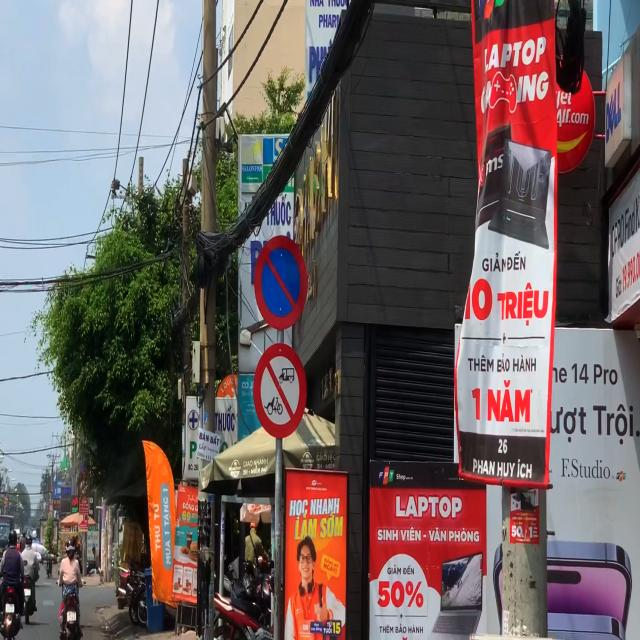Cam con lai: (254, 346, 308, 441)
Cam do: (254, 232, 310, 334)
